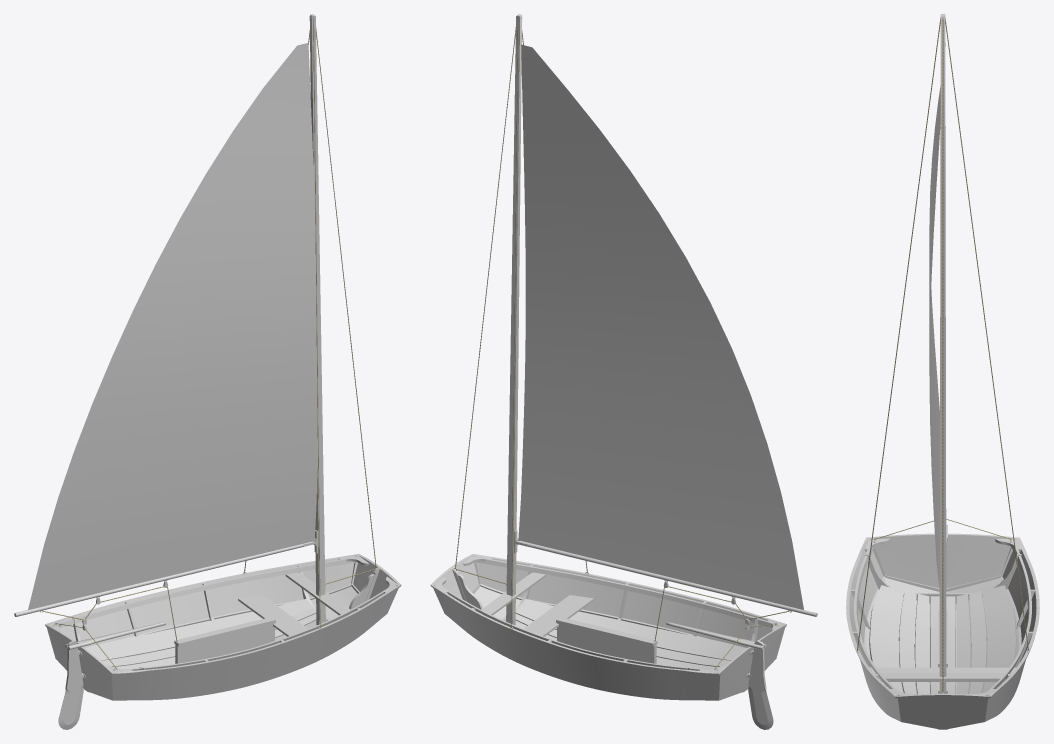
Rendered from Sailing+Pram.fbx.
3 renders of one model, left to right at view 1: azimuth 30°, elevation 25°; view 2: azimuth 150°, elevation 25°; view 3: azimuth 270°, elevation 25°, orthographic. The views are drawn at different scales.
Parts seen in each view (by area): view 1: Sailing+Pram.004, Sailing+Pram, Sailing+Pram.003, Sailing+Pram.002; view 2: Sailing+Pram.004, Sailing+Pram, Sailing+Pram.003, Sailing+Pram.002; view 3: Sailing+Pram, Sailing+Pram.003, Sailing+Pram.002, Sailing+Pram.004.
Boxes of the visible parts, x1=… form: Sailing+Pram.004: x1=28, y1=43, x2=318, y2=609; Sailing+Pram: x1=14, y1=14, x2=401, y2=729; Sailing+Pram.003: x1=48, y1=555, x2=398, y2=672; Sailing+Pram.002: x1=42, y1=17, x2=376, y2=668; Sailing+Pram.004: x1=518, y1=44, x2=803, y2=609; Sailing+Pram: x1=430, y1=14, x2=817, y2=729; Sailing+Pram.003: x1=433, y1=555, x2=783, y2=672; Sailing+Pram.002: x1=455, y1=17, x2=788, y2=668; Sailing+Pram: x1=846, y1=14, x2=1039, y2=729; Sailing+Pram.003: x1=850, y1=538, x2=1035, y2=695; Sailing+Pram.002: x1=857, y1=17, x2=1028, y2=692; Sailing+Pram.004: x1=929, y1=43, x2=945, y2=588.
Bounding box in the file's own units: 7.04 × 12.03 × 2.85.
